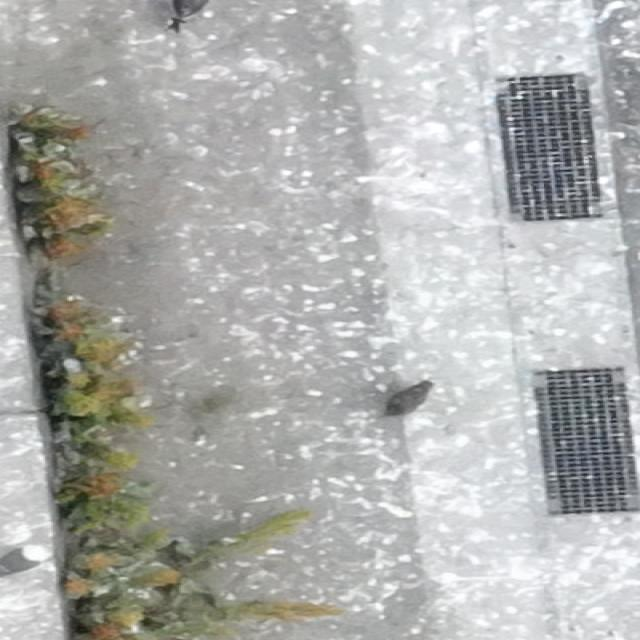umineko: (5, 546, 46, 574)
